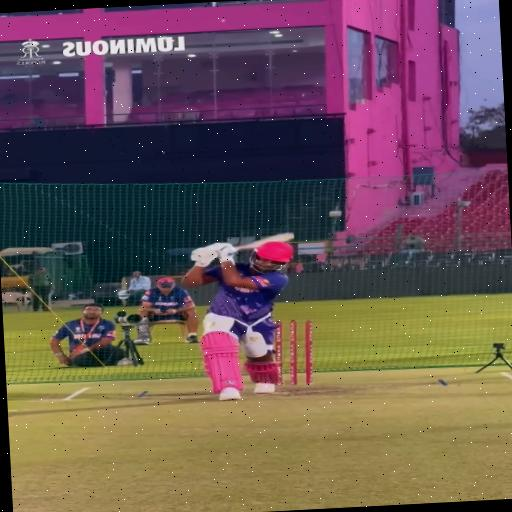Cricket bat: (236, 233, 294, 250)
